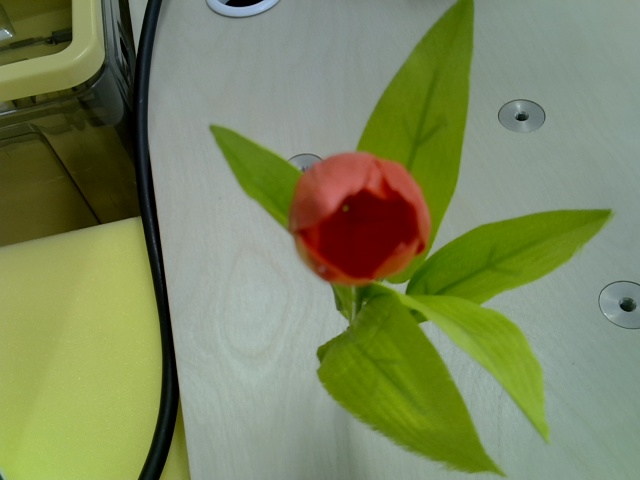튤립: (287, 150, 431, 283)
